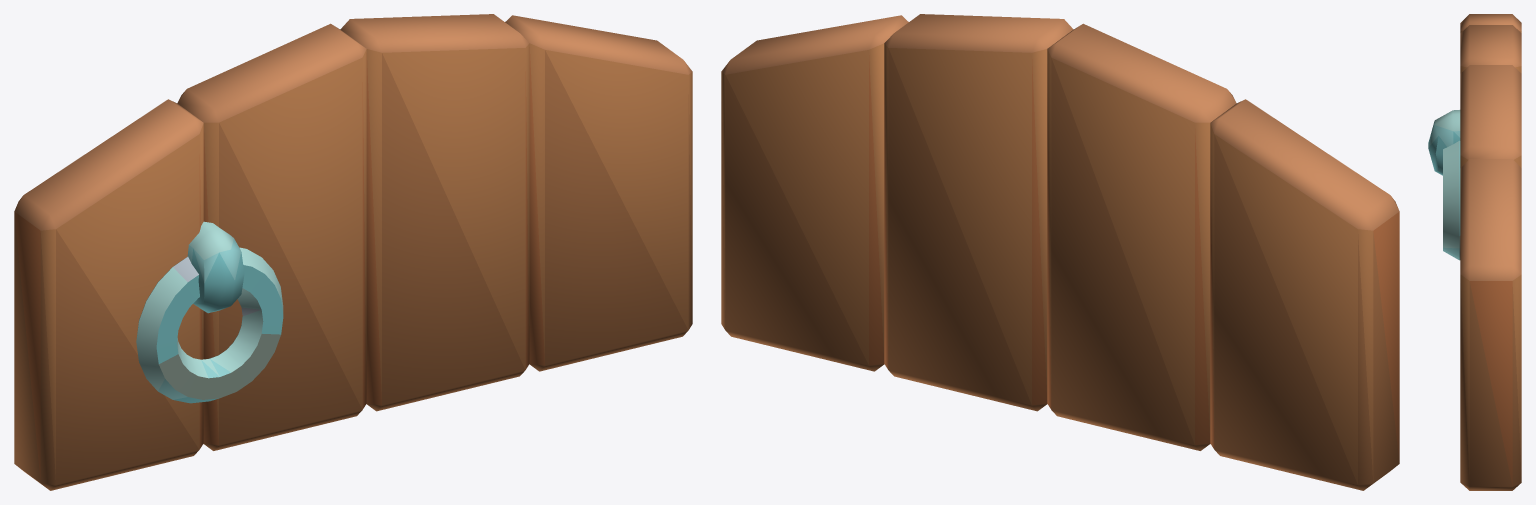
Rendered from itch_tiny_homely_house_gate_single.glb.
3 renders of one model, left to right at view 1: azimuth 30°, elevation 25°; view 2: azimuth 150°, elevation 25°; view 3: azimuth 270°, elevation 25°, orthographic. The views are drawn at different scales.
Parts seen in each view (by area): view 1: gate_single; view 2: gate_single; view 3: gate_single.
Boxes of the visible parts, left/top/right/bottom form: gate_single: left=14, top=14, right=692, bottom=490; gate_single: left=721, top=14, right=1399, bottom=490; gate_single: left=1428, top=14, right=1521, bottom=490.
Size of the model in its own units: 1.18 by 0.6455 by 0.18.
